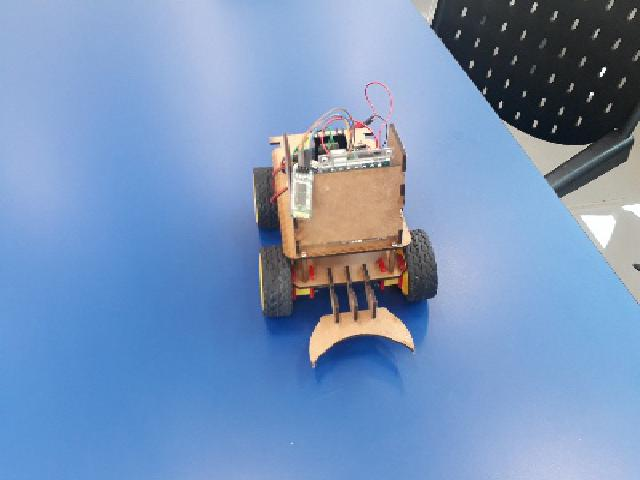Robot: (251, 127, 438, 368)
